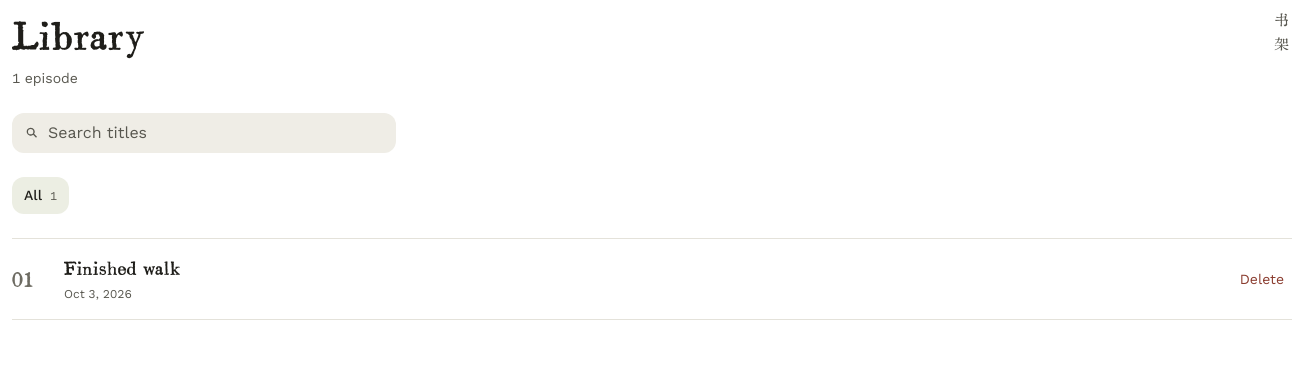
it: LocalLibraryPage › changes no browser data when the worker refuses the delete
Click the button with aria-label "Delete Finished walk" at (1262, 279), box [1232,261,1292,297]
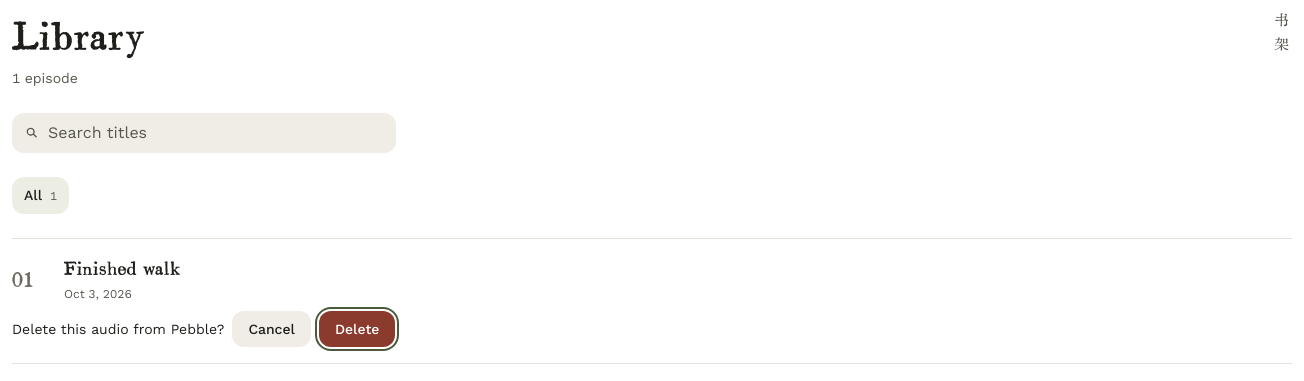
Click the button "Delete" at (357, 329), box [319,311,395,347]
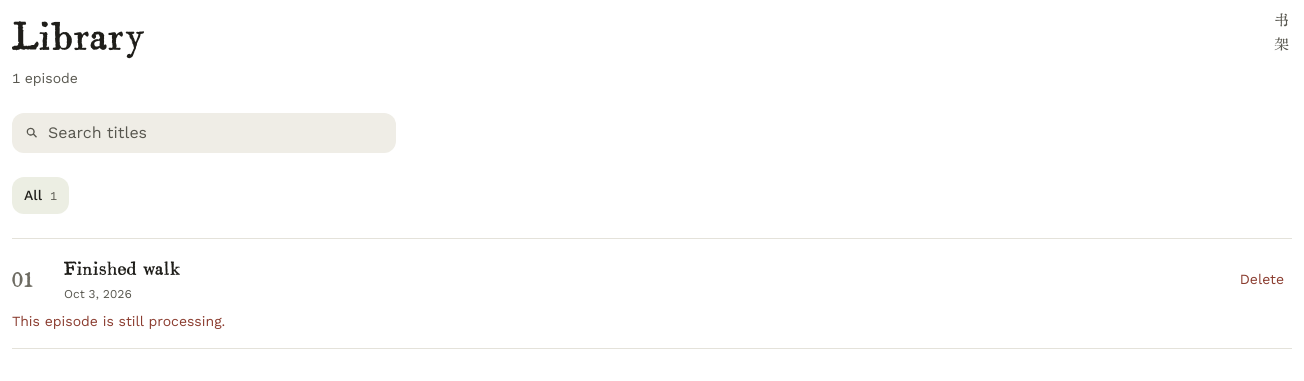
Expected: the message reads "This episode is still processing.", [12,313,225,329]
